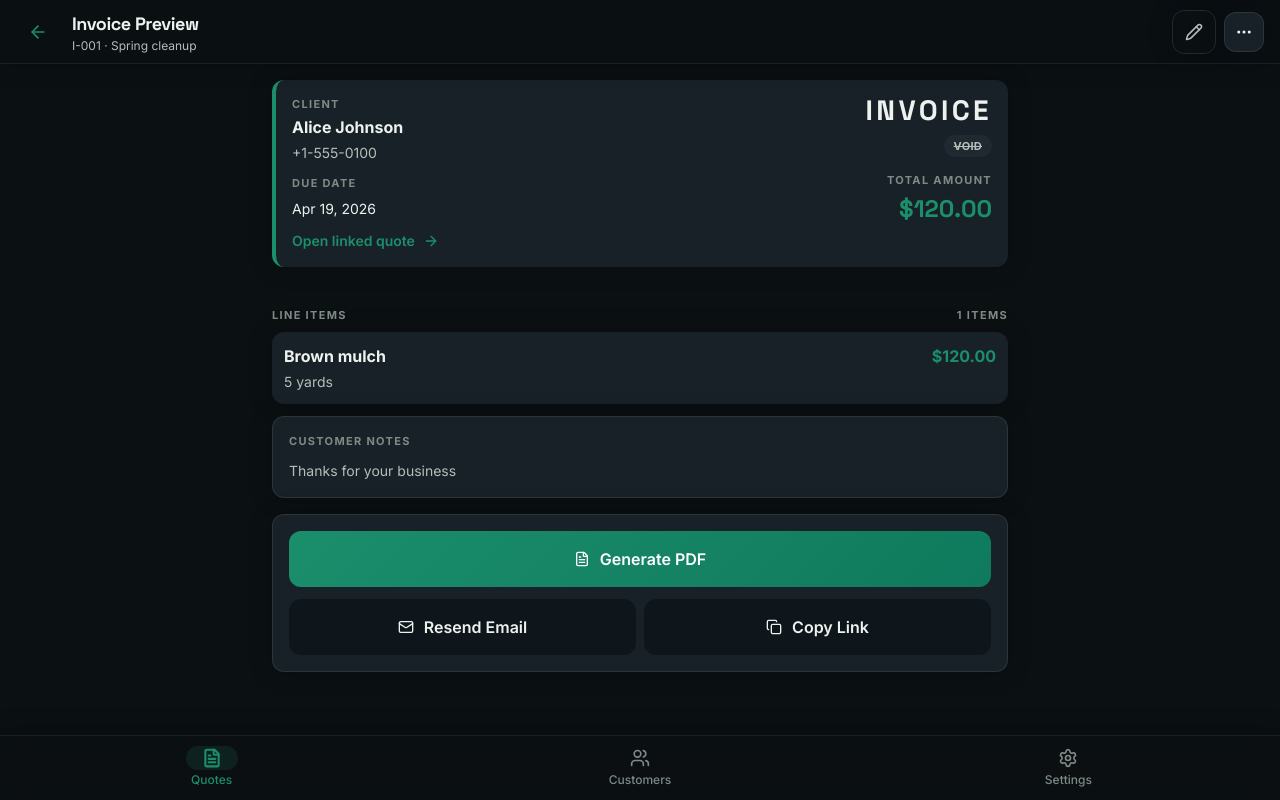
InvoiceDetailScreen › keeps void invoice overflow actions without showing a top void banner
Expected: the heading "Invoice Preview" is shown, [72,12,199,35]
Click the button named "more actions".
click(1244, 32)  # box [1224,12,1264,52]
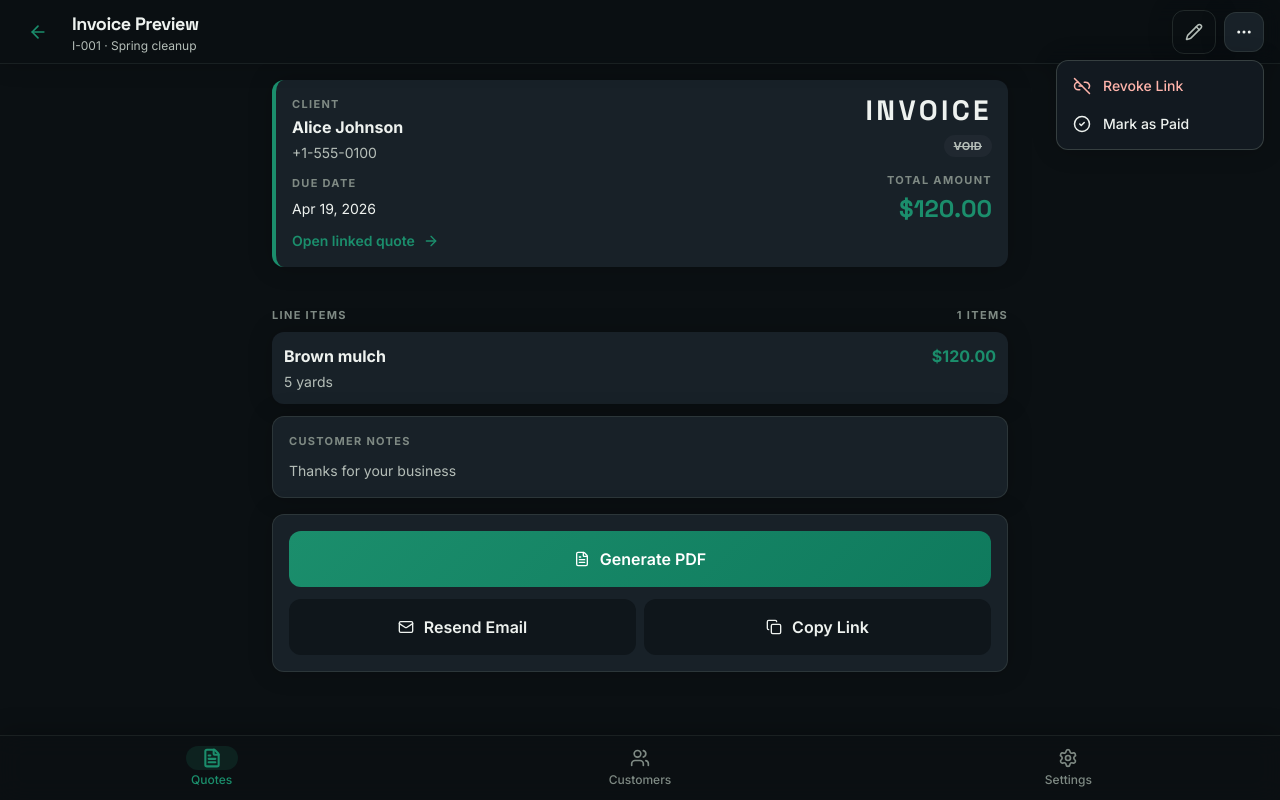
Expected: the menu item "Mark as Paid" is shown, [1063,105,1257,143]
